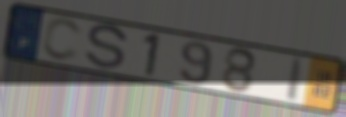1: (141, 32, 164, 78)
8: (219, 46, 259, 94)
9: (176, 40, 215, 87)
C: (39, 17, 85, 63)
I: (284, 55, 308, 104)
S: (82, 23, 130, 72)
